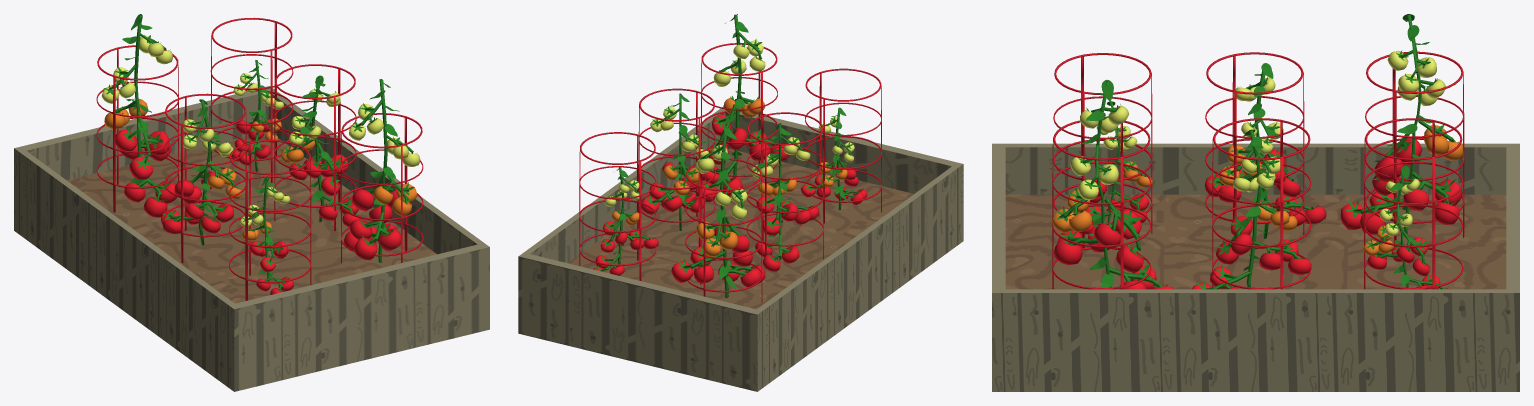
The model's file is garden-tomatoes.fbx.
3 renders of one model, left to right at view 1: azimuth 30°, elevation 25°; view 2: azimuth 150°, elevation 25°; view 3: azimuth 270°, elevation 25°, orthographic. The views are drawn at different scales.
Visible parts, largest first — view 1: Cube.001, Cube.003, Cube.151, BézierCurve.101, Cube.126, Cube.051, BézierCurve.115, Cube.026, Circle.002, Circle.004, Circle.003, Circle.001 (+2 smaller); view 2: Cube.001, Cube.003, Cube.151, BézierCurve.101, Cube.126, Cube.051, Cube.026, BézierCurve.115, Circle.001, Circle.002, Circle.004, Circle.006 (+2 smaller); view 3: Cube.001, Cube.003, BézierCurve.101, Cube.151, Cube.051, Cube.126, Cube.026, Circle.001, Circle.003, Circle.005, Circle.004, Circle.006 (+2 smaller).
Boxes of the visible parts, x1,y1,x2,y2 form: Cube.001: (14, 86, 489, 391); Cube.003: (67, 131, 436, 303); Cube.151: (102, 14, 176, 217); BézierCurve.101: (344, 79, 420, 262); Cube.126: (161, 99, 241, 245); Cube.051: (281, 75, 360, 226); BézierCurve.115: (240, 176, 293, 294); Cube.026: (231, 60, 283, 171); Circle.002: (229, 140, 311, 300); Circle.004: (164, 93, 246, 263); Circle.003: (274, 64, 356, 230); Circle.001: (210, 17, 293, 182); Cube.001: (518, 107, 963, 391); Cube.003: (568, 148, 913, 309); Cube.151: (671, 126, 765, 298); BézierCurve.101: (695, 14, 789, 201); Cube.126: (751, 123, 819, 271); Cube.051: (641, 93, 708, 230); Cube.026: (593, 166, 658, 275); BézierCurve.115: (800, 107, 867, 209); Circle.001: (579, 132, 656, 280); Circle.002: (805, 68, 881, 223); Circle.004: (746, 112, 823, 268); Circle.006: (685, 158, 762, 302); Cube.001: (992, 143, 1519, 391); Cube.003: (1005, 194, 1506, 289); BézierCurve.101: (1052, 80, 1173, 289); Cube.151: (1340, 14, 1462, 234); Cube.051: (1192, 129, 1311, 289); Cube.126: (1205, 63, 1326, 238); Cube.026: (1363, 166, 1451, 289); Circle.001: (1364, 118, 1463, 289); Circle.003: (1212, 118, 1311, 289); Circle.005: (1052, 120, 1151, 289); Circle.004: (1205, 52, 1304, 234); Circle.006: (1365, 51, 1464, 246).
Size of the model in its own units: 188 by 162 by 281.
